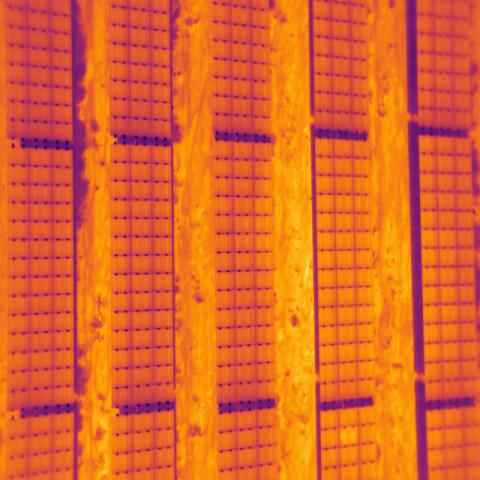fault: (339, 426, 359, 448)
